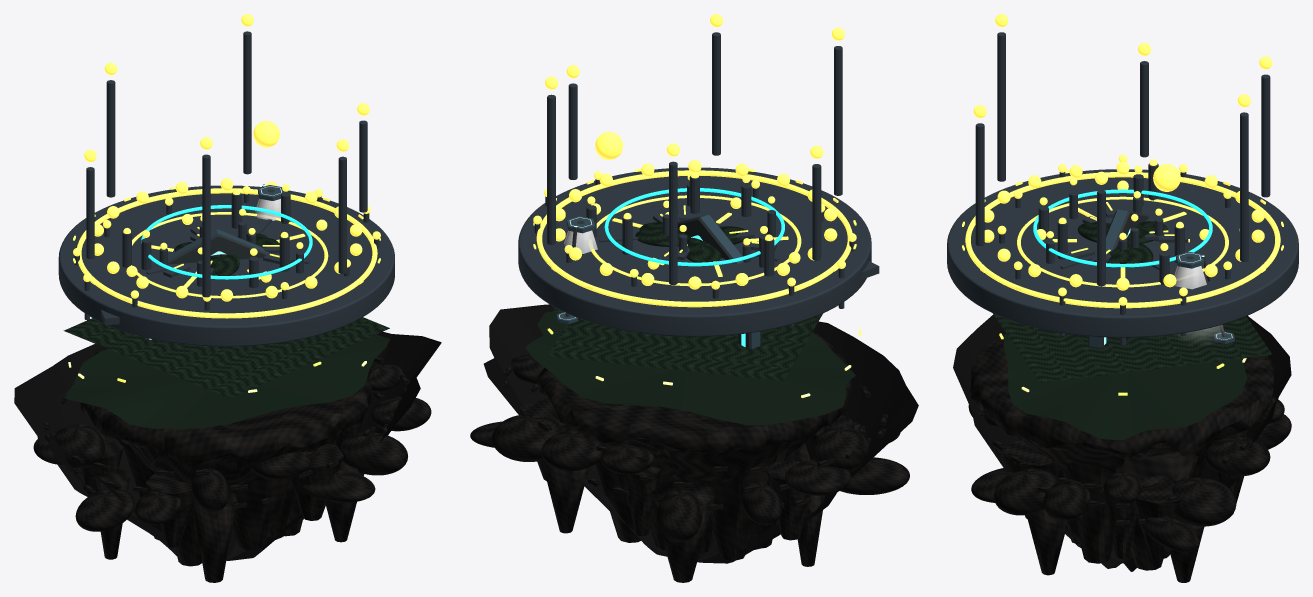
3 views of the same model, side by side, from view 1: azimuth 30°, elevation 25°; view 2: azimuth 150°, elevation 25°; view 3: azimuth 270°, elevation 25° (orthographic). The views are drawn at different scales.
Visible parts, largest first — view 1: AI_PM_bug_round_deck, AI_PM_bug_terrain_cap, AI_PM_bug_island_Floating_Island_01_Art, AI_PM_bug_terrain_surface_Terrain_Art, AI_PM_bug_organic_rock_shell, AI_PM_bug_outer_light_ring, AI_PM_bug_underside_shard_03, AI_PM_bug_cliff_tooth_05, AI_PM_bug_cliff_boulder_02, AI_PM_bug_cliff_boulder_07, AI_PM_bug_cliff_tooth_03, AI_PM_bug_dock_door (+24 smaller); view 2: AI_PM_bug_round_deck, AI_PM_bug_terrain_cap, AI_PM_bug_island_Floating_Island_01_Art, AI_PM_bug_organic_rock_shell, AI_PM_bug_terrain_surface_Terrain_Art, AI_PM_bug_outer_light_ring, AI_PM_bug_underside_shard_07, AI_PM_bug_cliff_tooth_11, AI_PM_bug_cliff_boulder_14, AI_PM_bug_cliff_boulder_11, AI_PM_bug_cliff_boulder_13, AI_PM_bug_cliff_tooth_14 (+23 smaller); view 3: AI_PM_bug_round_deck, AI_PM_bug_terrain_cap, AI_PM_bug_island_Floating_Island_01_Art, AI_PM_bug_terrain_surface_Terrain_Art, AI_PM_bug_organic_rock_shell, AI_PM_bug_outer_light_ring, AI_PM_bug_underside_shard_01, AI_PM_bug_cliff_boulder_14, AI_PM_bug_underside_shard_11, AI_PM_bug_cliff_boulder_02, AI_PM_bug_cliff_boulder_13, AI_PM_bug_cliff_tooth_15 (+21 smaller).
Part boxes in pixels (bbox=[...]): AI_PM_bug_round_deck: bbox=[58, 185, 394, 346]; AI_PM_bug_terrain_cap: bbox=[66, 334, 389, 428]; AI_PM_bug_island_Floating_Island_01_Art: bbox=[73, 347, 371, 489]; AI_PM_bug_terrain_surface_Terrain_Art: bbox=[63, 317, 389, 398]; AI_PM_bug_organic_rock_shell: bbox=[14, 331, 441, 560]; AI_PM_bug_outer_light_ring: bbox=[77, 188, 377, 318]; AI_PM_bug_underside_shard_03: bbox=[229, 475, 290, 550]; AI_PM_bug_cliff_tooth_05: bbox=[192, 491, 236, 582]; AI_PM_bug_cliff_boulder_02: bbox=[339, 432, 407, 475]; AI_PM_bug_cliff_boulder_07: bbox=[75, 488, 134, 531]; AI_PM_bug_cliff_tooth_03: bbox=[290, 444, 343, 520]; AI_PM_bug_dock_door: bbox=[142, 229, 272, 339]; AI_PM_bug_round_deck: bbox=[518, 167, 871, 336]; AI_PM_bug_terrain_cap: bbox=[525, 310, 855, 425]; AI_PM_bug_island_Floating_Island_01_Art: bbox=[537, 331, 851, 483]; AI_PM_bug_organic_rock_shell: bbox=[483, 304, 918, 563]; AI_PM_bug_terrain_surface_Terrain_Art: bbox=[548, 313, 822, 380]; AI_PM_bug_outer_light_ring: bbox=[536, 170, 852, 307]; AI_PM_bug_underside_shard_07: bbox=[704, 454, 777, 560]; AI_PM_bug_cliff_tooth_11: bbox=[651, 480, 714, 582]; AI_PM_bug_cliff_boulder_14: bbox=[492, 414, 565, 461]; AI_PM_bug_cliff_boulder_11: bbox=[657, 489, 702, 541]; AI_PM_bug_cliff_boulder_13: bbox=[541, 430, 603, 471]; AI_PM_bug_cliff_tooth_14: bbox=[542, 460, 588, 533]; AI_PM_bug_round_deck: bbox=[947, 169, 1298, 337]; AI_PM_bug_terrain_cap: bbox=[1003, 333, 1246, 440]; AI_PM_bug_island_Floating_Island_01_Art: bbox=[970, 332, 1274, 474]; AI_PM_bug_terrain_surface_Terrain_Art: bbox=[993, 313, 1272, 382]; AI_PM_bug_organic_rock_shell: bbox=[953, 314, 1291, 571]; AI_PM_bug_outer_light_ring: bbox=[965, 172, 1280, 308]; AI_PM_bug_underside_shard_01: bbox=[1062, 462, 1113, 563]; AI_PM_bug_cliff_boulder_14: bbox=[1172, 477, 1236, 526]; AI_PM_bug_underside_shard_11: bbox=[1122, 451, 1196, 570]; AI_PM_bug_cliff_boulder_02: bbox=[994, 468, 1057, 515]; AI_PM_bug_cliff_boulder_13: bbox=[1205, 436, 1270, 476]; AI_PM_bug_cliff_tooth_15: bbox=[1135, 475, 1181, 558].
Bounding box in the file's own units: 1.3 × 1.52 × 0.96.
Materials: 14 (5 with a texture image).
